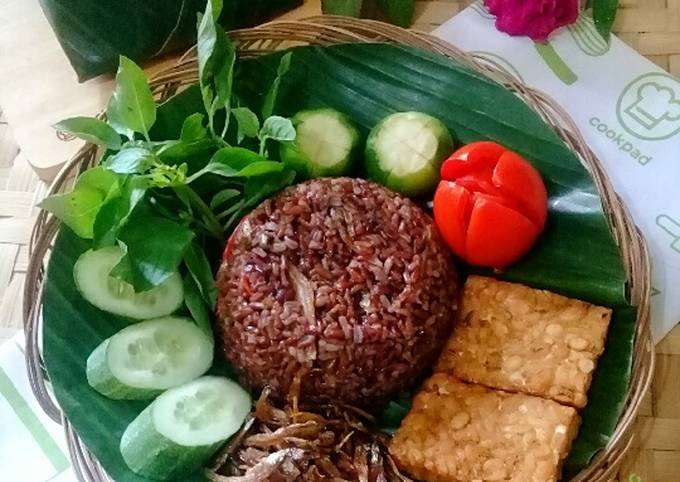Nasi Merah: (190, 186, 461, 392)
